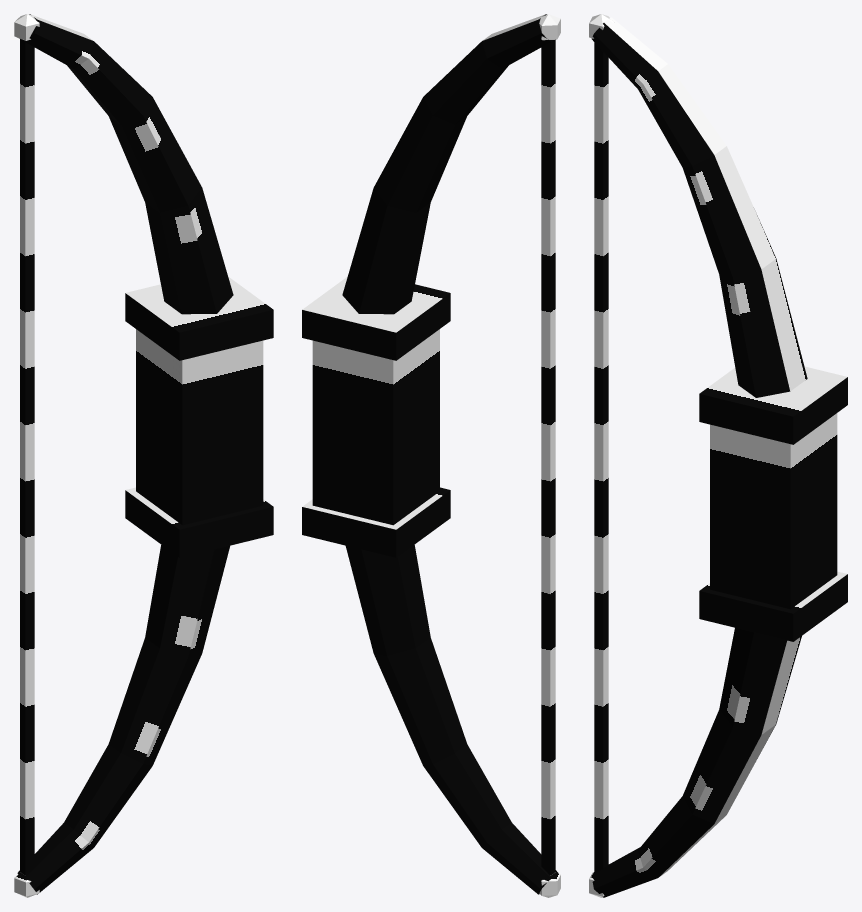
Rendered from bow.glb.
3 renders of one model, left to right at view 1: azimuth 30°, elevation 25°; view 2: azimuth 150°, elevation 25°; view 3: azimuth 330°, elevation 25°, orthographic.
Visible parts, largest first — view 1: grip, limb_a~y, limb_a, string, collar, collar~y; view 2: grip, limb_a~y, limb_a, string, collar, collar~y; view 3: limb_a, grip, limb_a~y, string, collar, collar~y.
Boxes of the visible parts, left/top/right/bottom form: grip: left=136, top=329, right=263, bottom=525; limb_a~y: left=17, top=545, right=229, bottom=894; limb_a: left=22, top=14, right=233, bottom=314; string: left=20, top=39, right=34, bottom=875; collar: left=125, top=276, right=273, bottom=360; collar~y: left=125, top=487, right=273, bottom=557; grip: left=312, top=329, right=439, bottom=525; limb_a~y: left=345, top=545, right=558, bottom=894; limb_a: left=342, top=14, right=552, bottom=314; string: left=541, top=40, right=555, bottom=875; collar: left=302, top=276, right=450, bottom=360; collar~y: left=302, top=487, right=450, bottom=557; limb_a: left=591, top=17, right=807, bottom=397; grip: left=710, top=413, right=837, bottom=609; limb_a~y: left=591, top=628, right=801, bottom=897; string: left=594, top=42, right=608, bottom=873; collar: left=699, top=366, right=847, bottom=444; collar~y: left=699, top=571, right=847, bottom=641.
Size of the model in its own units: 0.5351 by 1.96 by 0.2188.
4 materials, 4 textured.
